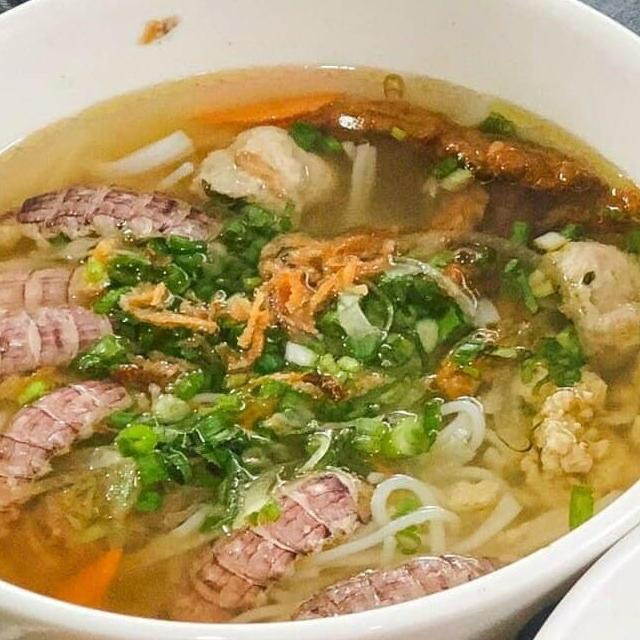bun: (284, 386, 624, 576)
bun hai san: (0, 34, 640, 640)
thit bam: (515, 360, 640, 507)
tom tit: (150, 458, 403, 638), (0, 369, 163, 580), (0, 174, 246, 271), (276, 546, 522, 634), (0, 255, 184, 355), (0, 298, 155, 411)
